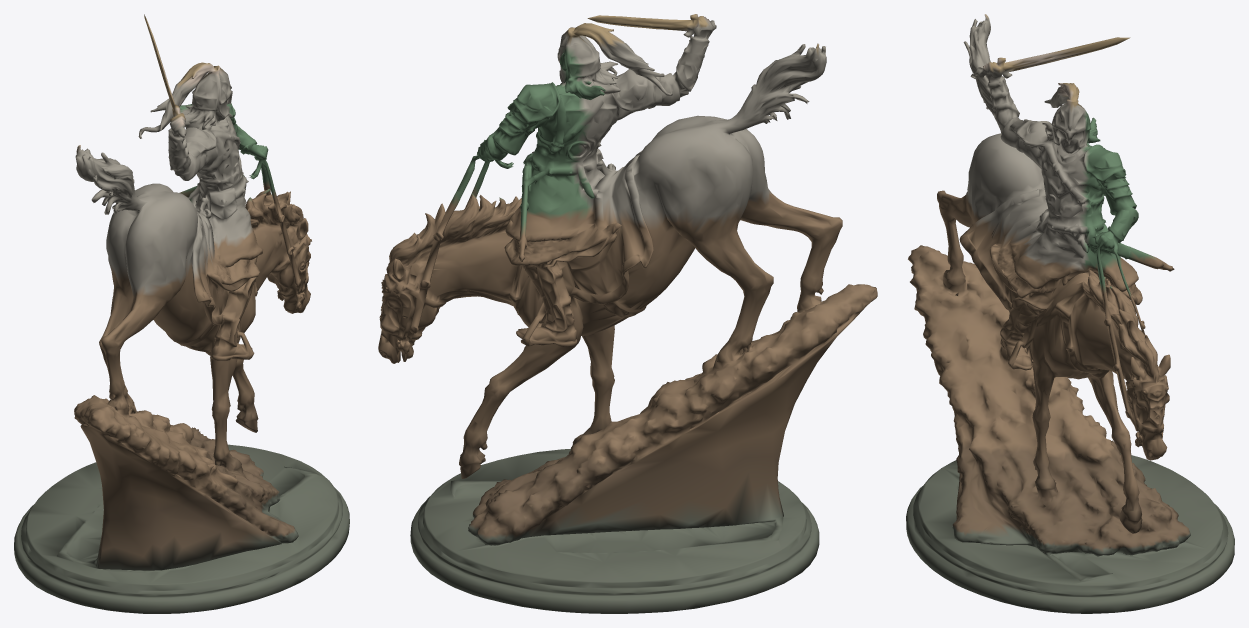
Rendered from pg_eomer.glb.
The picture shows the model from 3 angles, left to right: view 1: azimuth 30°, elevation 25°; view 2: azimuth 150°, elevation 25°; view 3: azimuth 270°, elevation 25°; orthographic projection. The views are drawn at different scales.
Parts seen in each view (by area): view 1: eomer_0.stl; view 2: eomer_0.stl; view 3: eomer_0.stl.
Boxes of the visible parts, x1,y1,x2,y2 form: eomer_0.stl: (14,14,349,613); eomer_0.stl: (378,14,877,613); eomer_0.stl: (906,14,1234,613).
Size of the model in its own units: 0.6994 by 1 by 0.5993.
